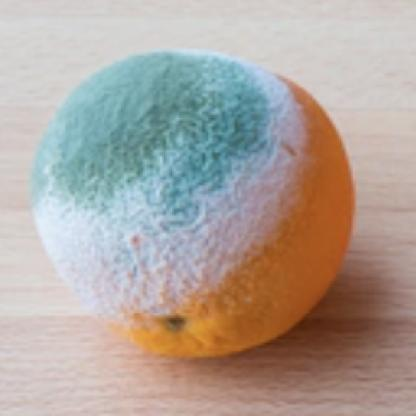rotten: (32, 50, 355, 363)
